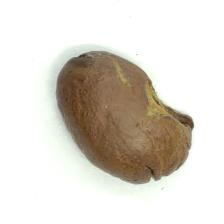NG: (137, 66, 194, 132)
